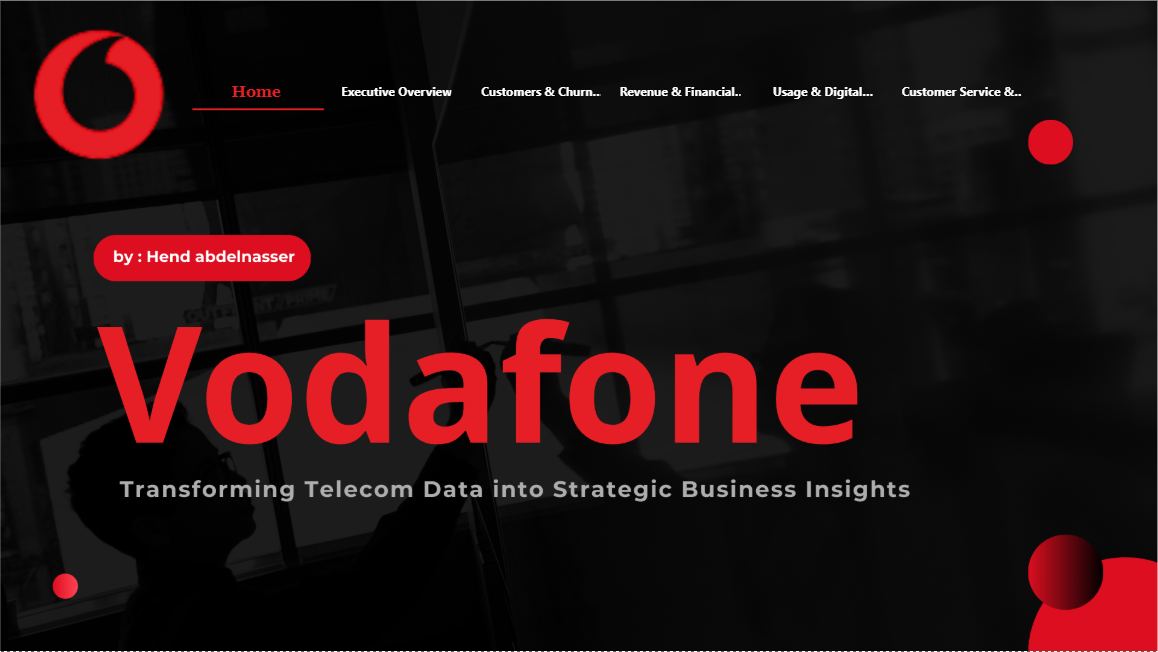

The dashboard page shown, as its layout file describes it:
{"tool":"powerbi","page":{"name":"Home","canvas":[1280,720],"ordinal":0},"visuals":[{"type":"image","box":[0,1.7,1280.5,718.9],"z":0},{"type":"pageNavigator","box":[213.7,88.2,923.5,35.3],"z":1000}]}

Visuals, with their boxes in screenshot pixels (x1, y1, x2, y2), scaled from the page's 1280x720 canvas onto the 1158x652 screenshot:
image: bbox=[0, 2, 1157, 651]
pageNavigator: bbox=[193, 80, 1029, 112]
